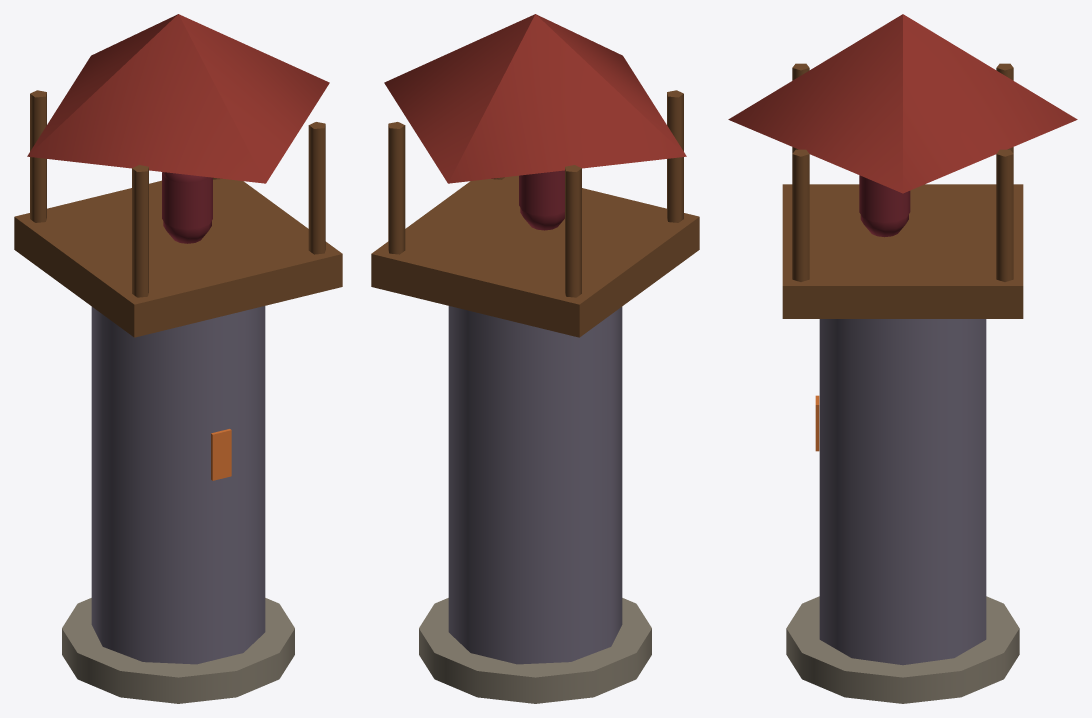
Rendered from torre.fbx.
The picture shows the model from 3 angles, left to right: view 1: azimuth 30°, elevation 25°; view 2: azimuth 150°, elevation 25°; view 3: azimuth 270°, elevation 25°; orthographic projection.
Parts seen in each view (by area): view 1: torre; view 2: torre; view 3: torre.
Boxes of the visible parts, x1,y1,x2,y2 form: torre: (14,14,342,703); torre: (371,14,699,703); torre: (728,14,1077,703).
Bounding box in the file's own units: 0.96 × 1.94 × 0.96.
